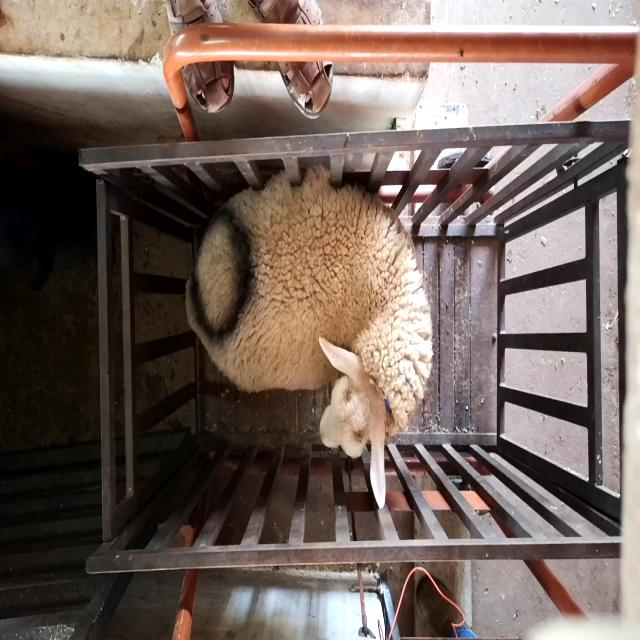sheep: (184, 165, 432, 509)
